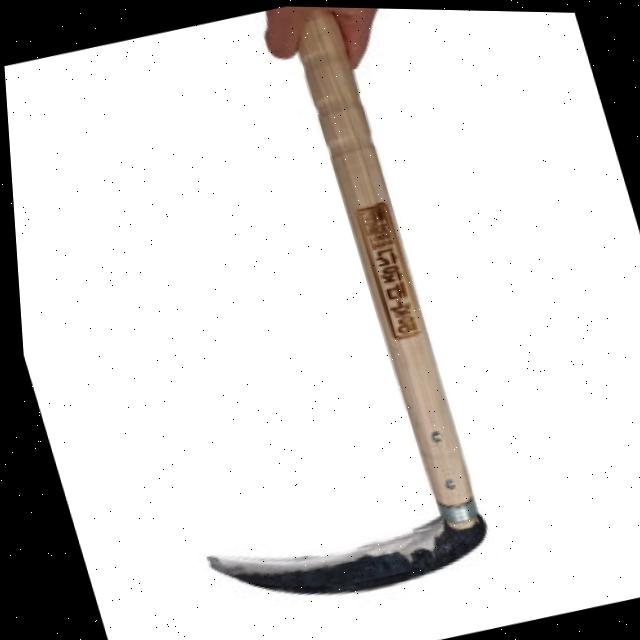sickle: (16, 0, 537, 640)
